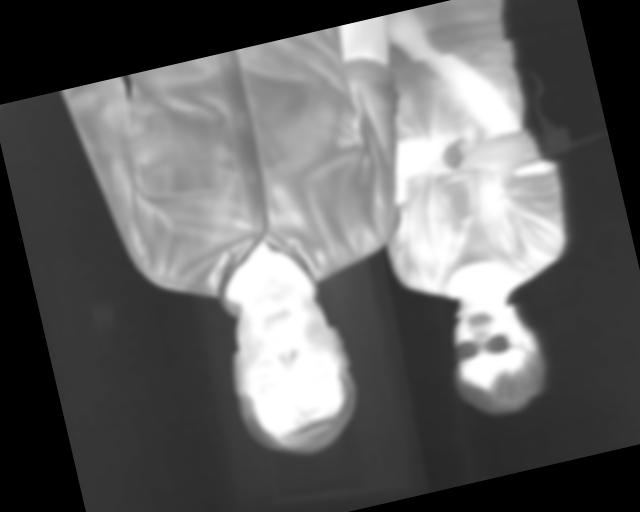face: (212, 266, 369, 469), (437, 281, 553, 424)
